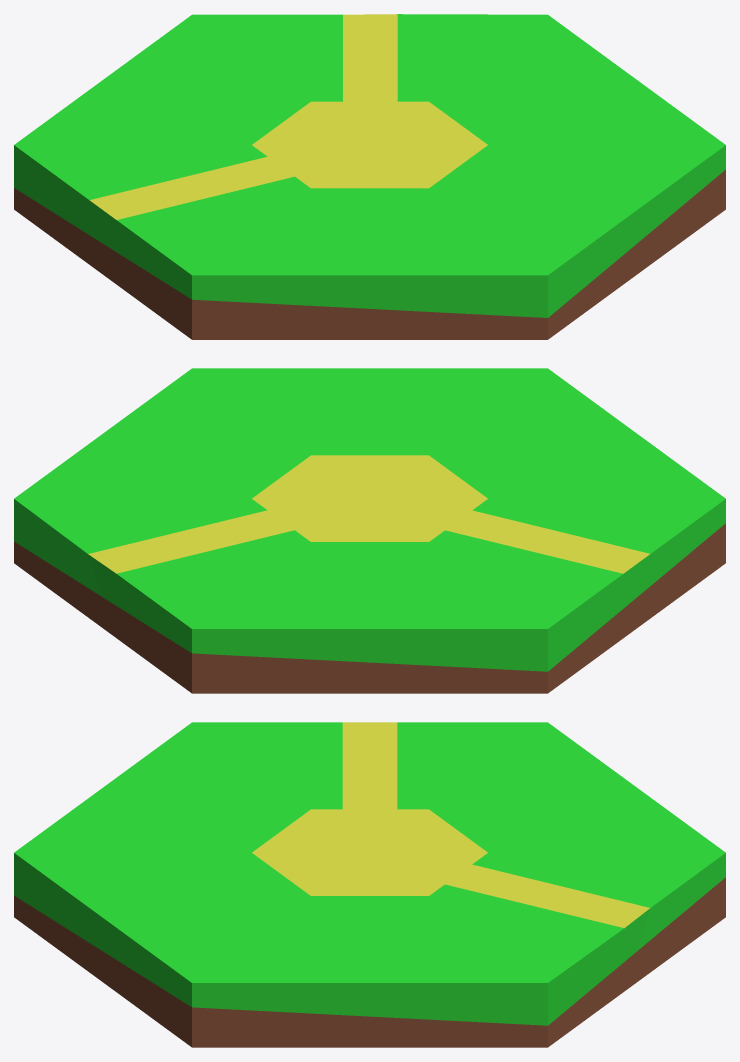
The model's file is pathTile1.fbx.
The picture shows the model from 3 angles, top to bottom: view 1: azimuth 30°, elevation 25°; view 2: azimuth 150°, elevation 25°; view 3: azimuth 270°, elevation 25°; orthographic projection.
Visible parts, largest first — view 1: CylinderPathNode.003; view 2: CylinderPathNode.003; view 3: CylinderPathNode.003.
Boxes of the visible parts, x1,y1,x2,y2 form: CylinderPathNode.003: [14, 14, 725, 339]; CylinderPathNode.003: [14, 368, 725, 693]; CylinderPathNode.003: [14, 722, 725, 1047].
Bounding box in the file's own units: 173 × 40 × 200.
